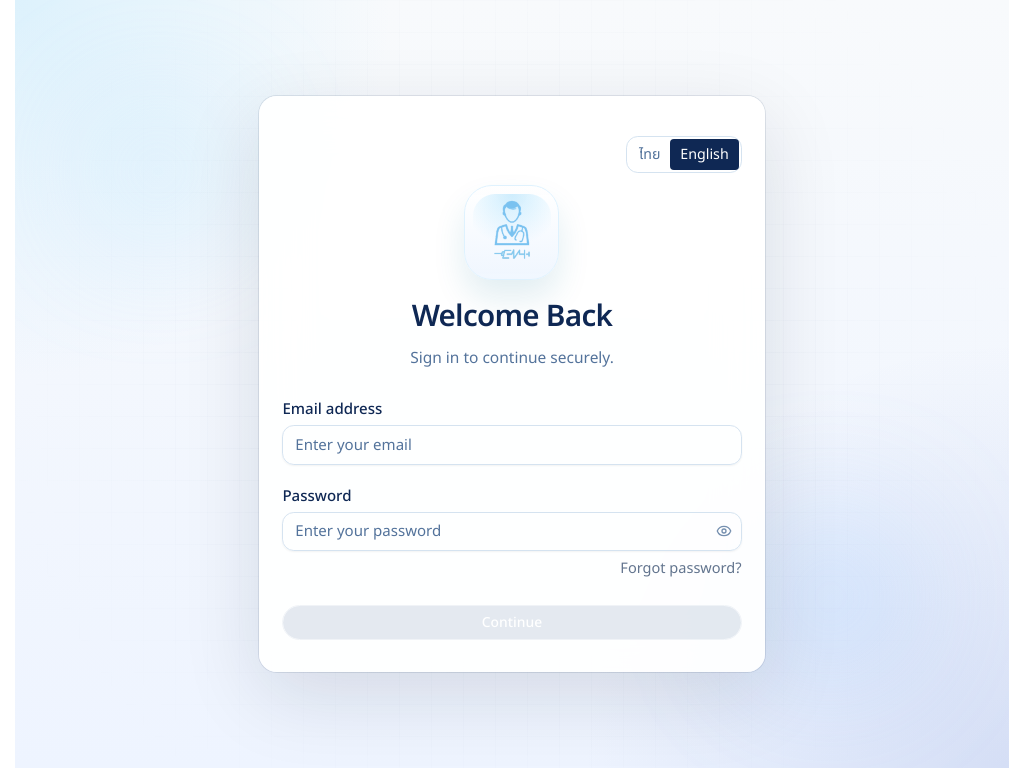
Scenario: LoginClientPage › shows recovery options for a locked clinical account without self-service unlock
The image size is (1024, 768).
Type "doctor@example.com" into the field labelled "Email address" at (512, 445), box [282, 425, 742, 465]
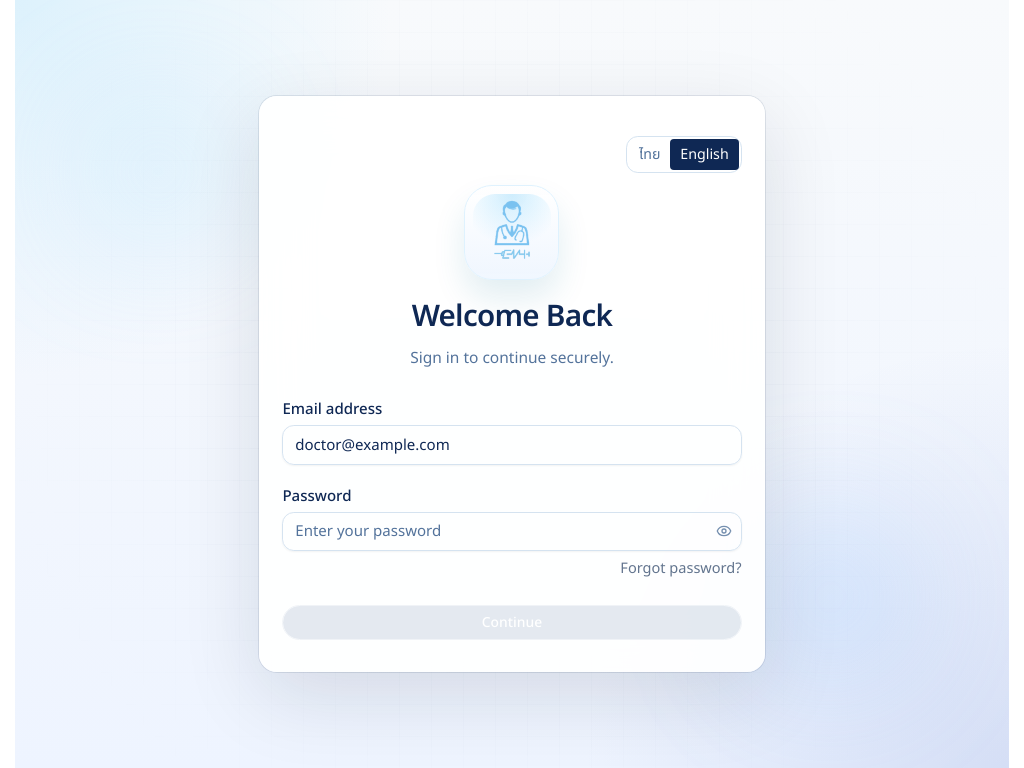
Type "Password123!" into the password field labelled "Password" at (512, 531), box [282, 512, 742, 551]
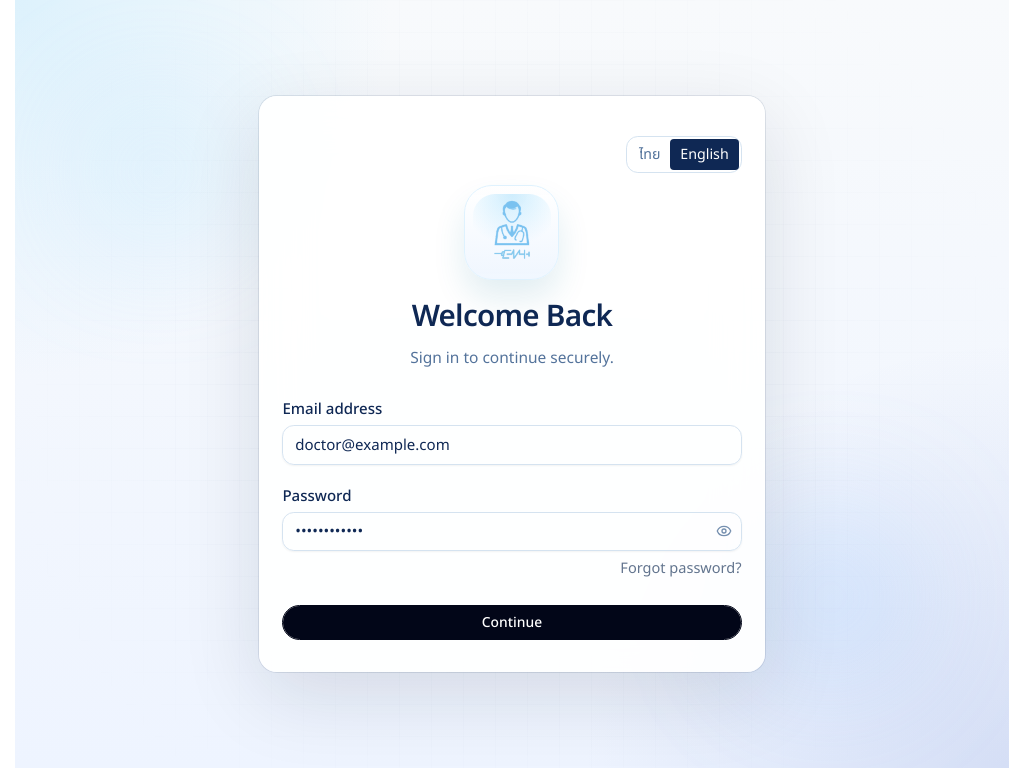
Click the button "Continue" at (512, 622), box [282, 605, 742, 640]
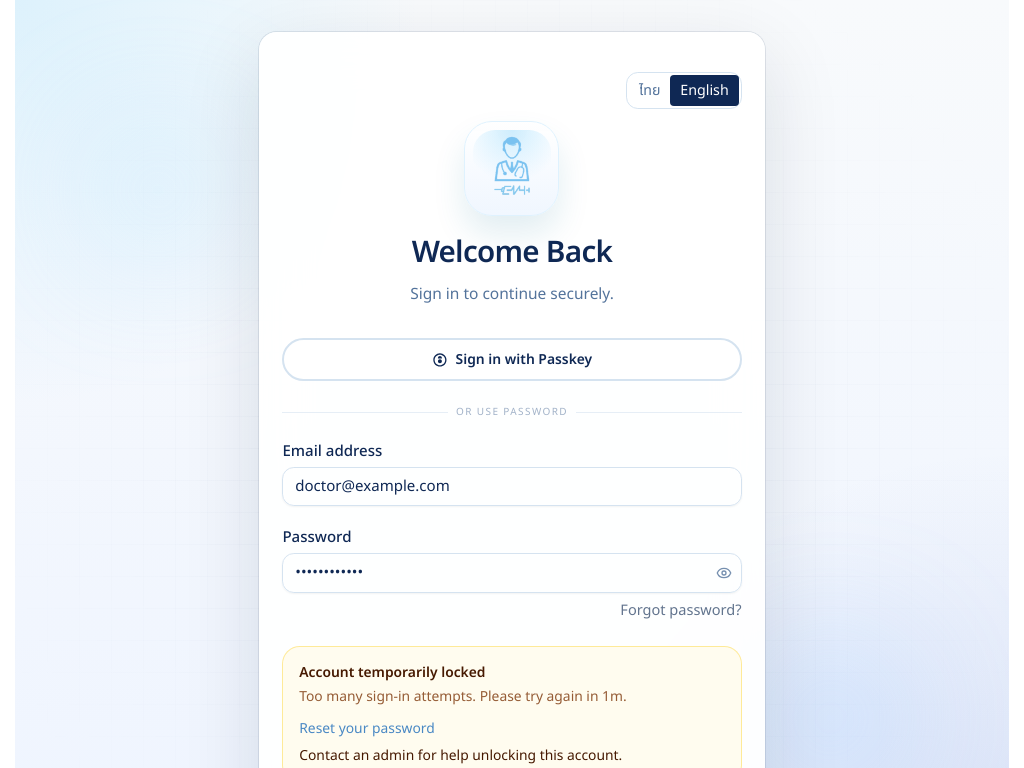
Result: the text "Account temporarily locked" is shown at [299, 662, 485, 683]
Result: the text "Contact an admin for help unlocking this account." is shown at [299, 745, 622, 766]
